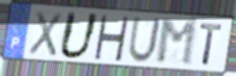H: (92, 14, 131, 63)
M: (155, 19, 198, 67)
T: (199, 22, 225, 67)
U: (56, 10, 101, 61), (126, 16, 163, 64)
X: (27, 10, 63, 58)
